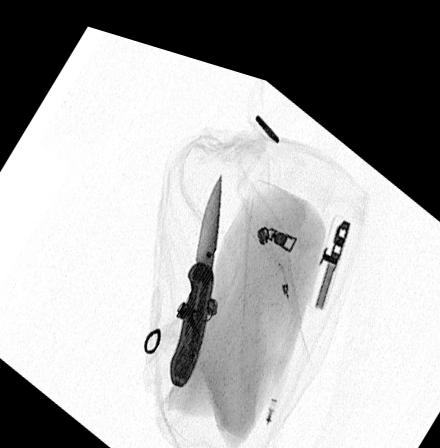Knife: (167, 158, 222, 377)
